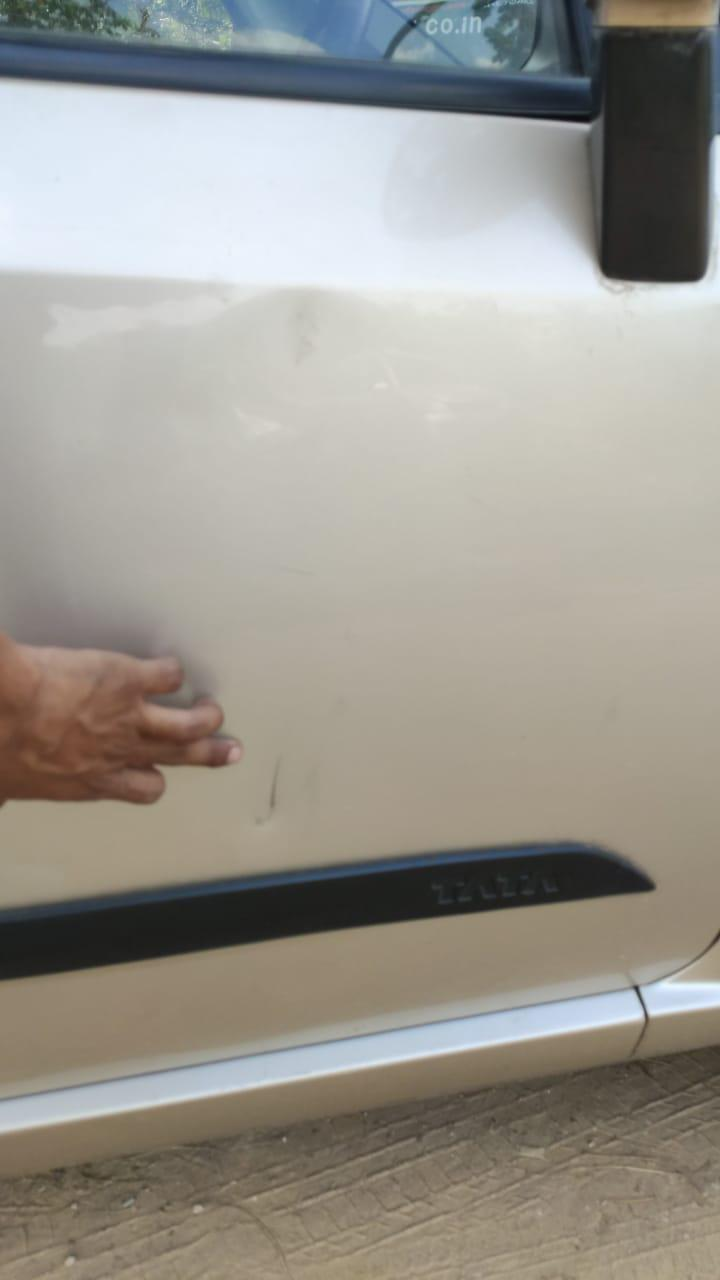doorouter-dent: (0, 70, 719, 1009)
